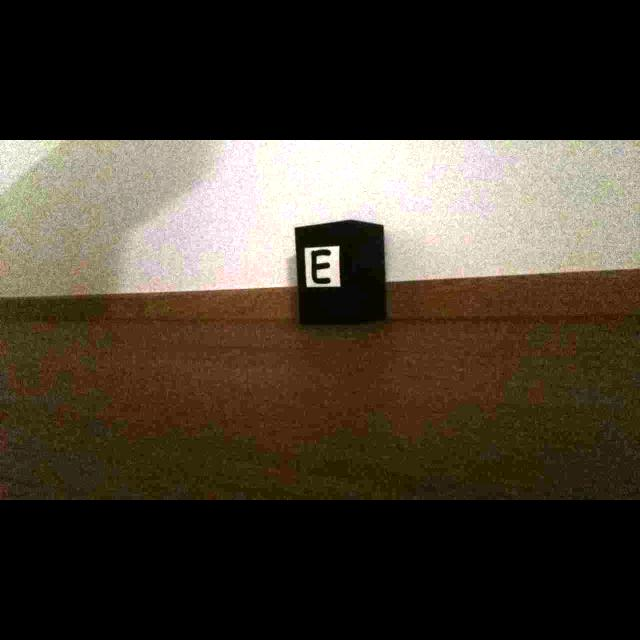E: (311, 249, 331, 284)
